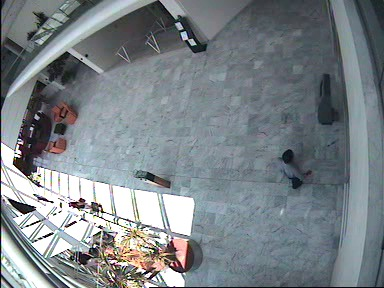person: (276, 149, 311, 190), (67, 197, 102, 213)
